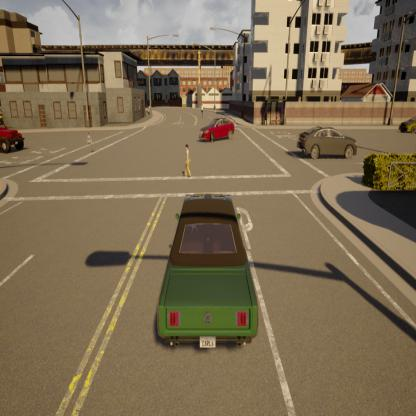Cars: (143, 191, 262, 356), (296, 122, 360, 163), (198, 118, 238, 147), (0, 117, 27, 156)
Pedestrian: (182, 140, 194, 178), (85, 130, 95, 156)
